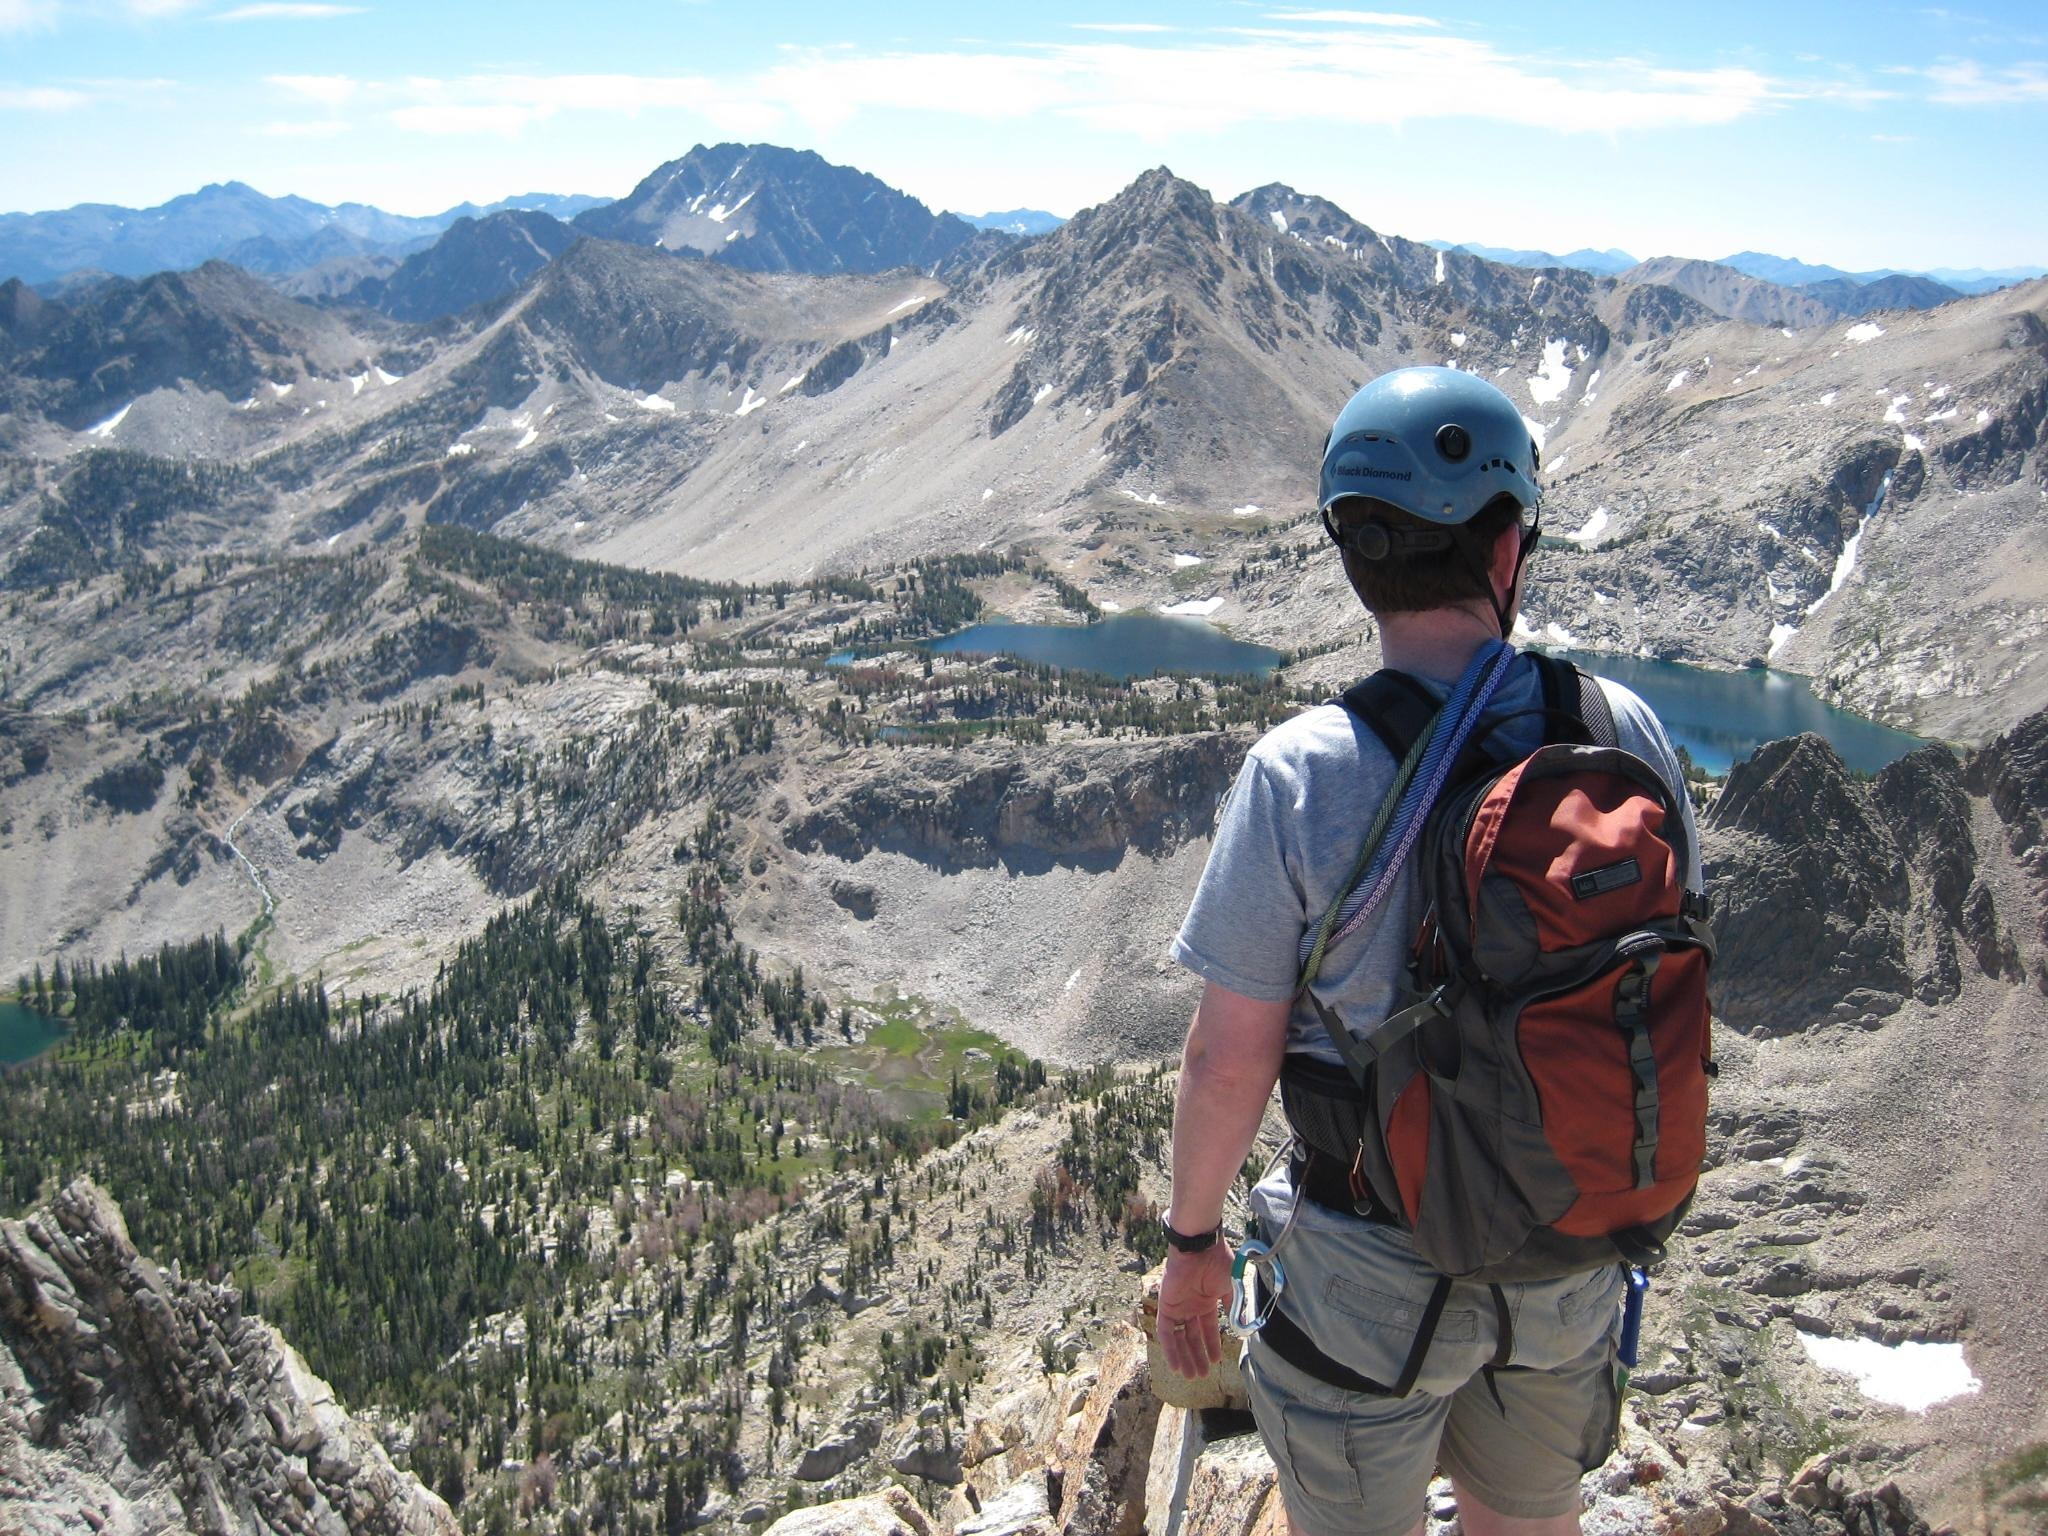helmet: (1301, 352, 1551, 552)
